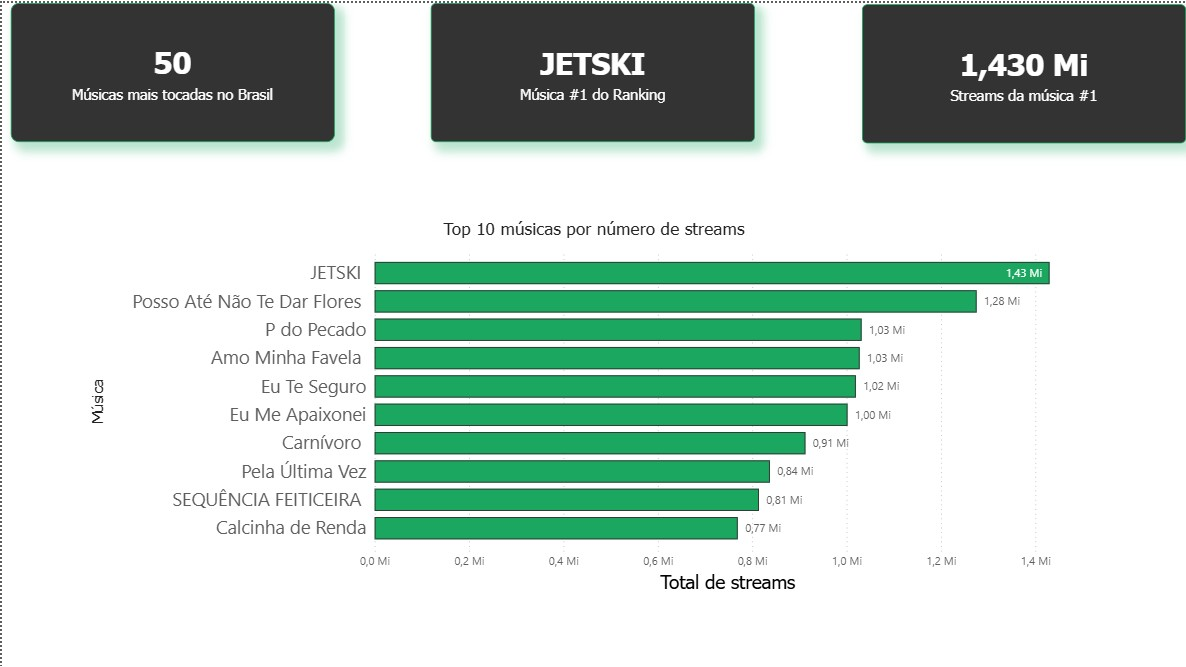

This screenshot's page, from the dashboard's own definition file:
{"tool":"powerbi","page":{"name":"Análise das Músicas mais tocadas no Brasil - Top 50 Spotify.","canvas":[1280,720],"ordinal":0},"visuals":[{"type":"card","fields":{"Values":["CountNonNull(T_Top50Spotify.musica)"]},"box":[9.6,0,350,150],"z":0},{"type":"card","fields":{"Values":["T_Top50Spotify.Top Música"]},"box":[463.8,0,350,150],"z":1000},{"type":"card","title":"Streams da música #1.","fields":{"Values":["T_Top50Spotify.Top 1 Plays"]},"box":[930.4,1.4,350,150],"z":2000},{"type":"clusteredBarChart","title":"Top 10 músicas por número de streams","fields":{"Category":["T_Top50Spotify.musica"],"Y":["Sum(T_Top50Spotify.total_plays)"]},"box":[91.9,231.9,1096.4,410.3],"z":3000}]}

Visuals, with their boxes in screenshot pixels (x1, y1, x2, y2), scaled from the page's 1280x720 canvas onto the 1186x667 screenshot:
card - CountNonNull(T_Top50Spotify.musica): region(9, 0, 333, 139)
card - T_Top50Spotify.Top Música: region(430, 0, 754, 139)
"Streams da música #1." card: region(862, 1, 1185, 140)
"Top 10 músicas por número de streams" clusteredBarChart: region(85, 215, 1101, 595)
